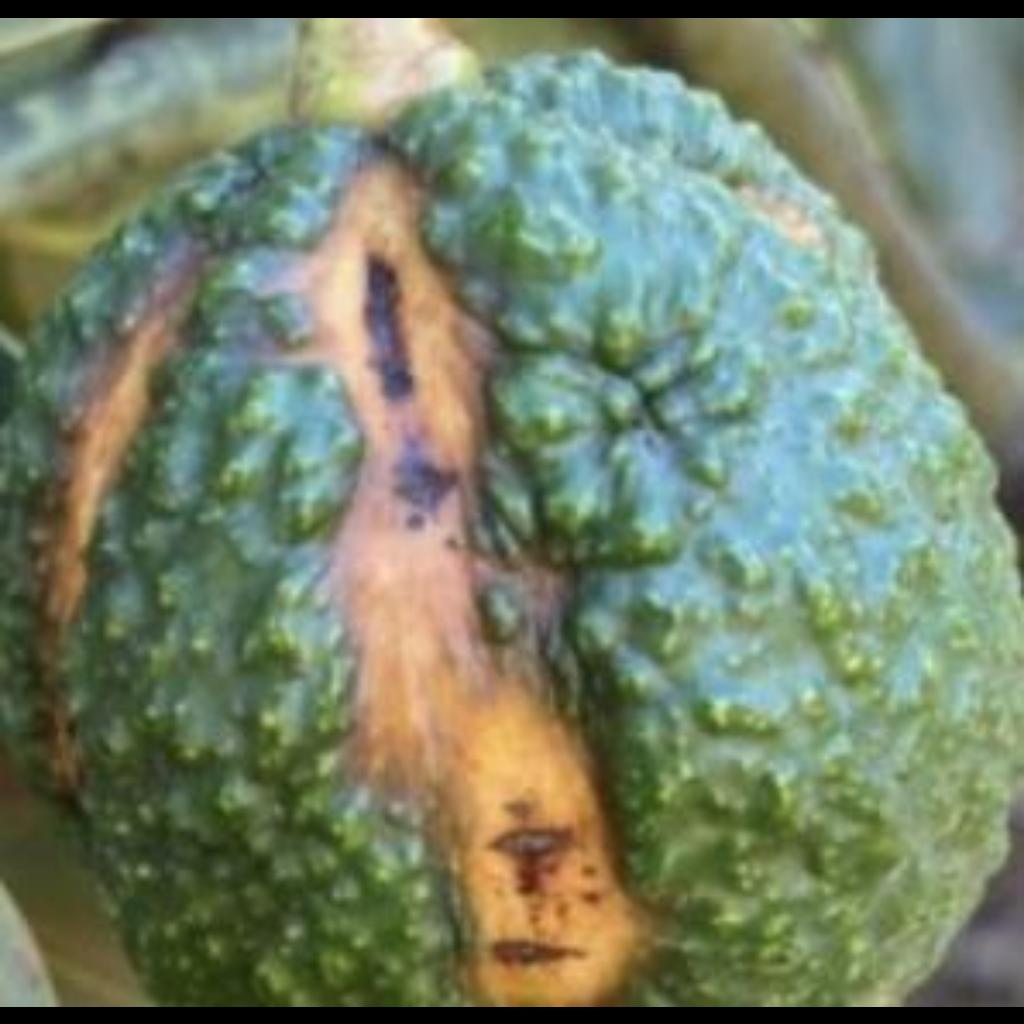sunblotch: (22, 153, 984, 1002)
